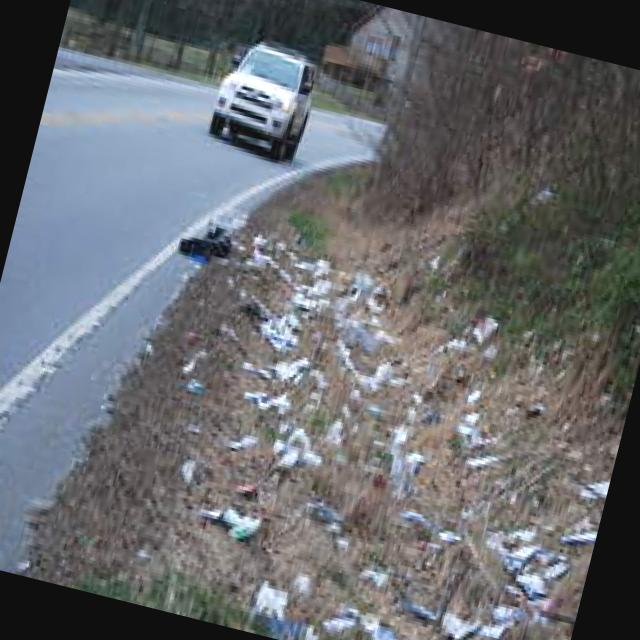garbage: (157, 222, 640, 640)
